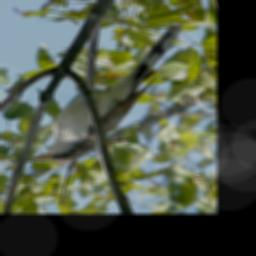Cuckoo: (29, 22, 184, 164)
